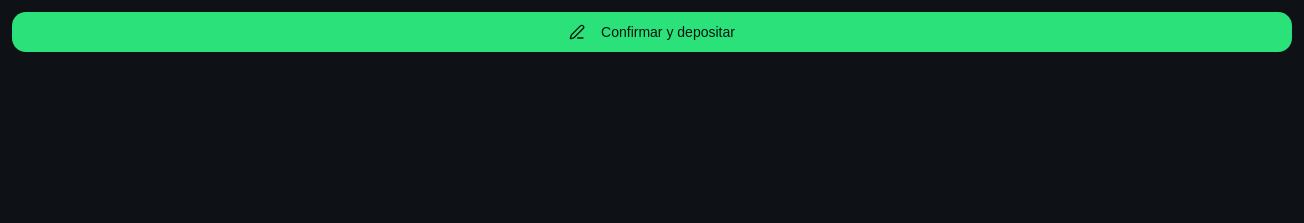
Test: selectable Real deposit review › never checks a sent transaction when Privy rejects the signature
Click the button "Confirmar y depositar": (652, 32) [12,12,1292,52]
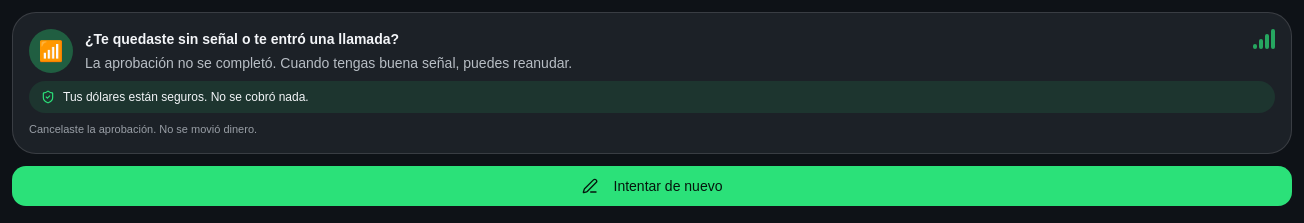
Expected: the message "📶 ¿Te quedaste sin señal o te entró una llamada? La aprobación no se completó." is shown
